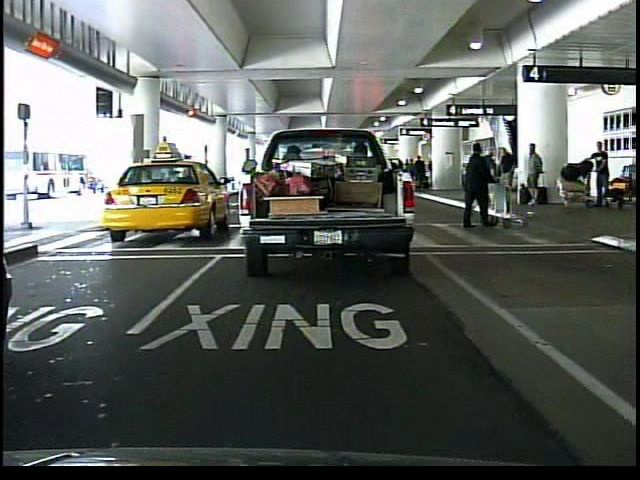person: (457, 143, 497, 234), (475, 146, 496, 220), (591, 139, 613, 207)
